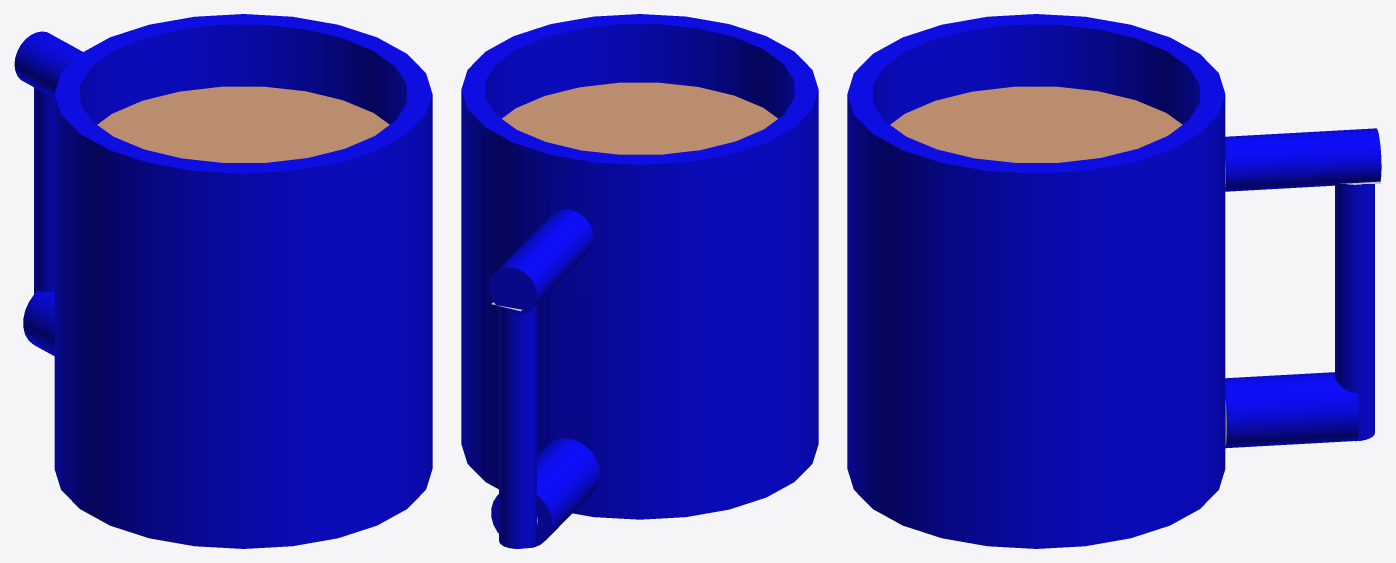
The picture shows the model from 3 angles, left to right: view 1: azimuth 30°, elevation 25°; view 2: azimuth 150°, elevation 25°; view 3: azimuth 270°, elevation 25°; orthographic projection. The views are drawn at different scales.
Parts seen in each view (by area): view 1: mesh1_mesh1-geometry, mesh1_mesh1-geometry_2, mesh4_mesh4-geometry_1, mesh2_mesh2-geometry_1; view 2: mesh1_mesh1-geometry, mesh1_mesh1-geometry_2, mesh4_mesh4-geometry_1, mesh2_mesh2-geometry_1; view 3: mesh1_mesh1-geometry, mesh1_mesh1-geometry_2, mesh4_mesh4-geometry_1, mesh2_mesh2-geometry_1.
Part boxes in pixels (left/top/right/bottom): mesh1_mesh1-geometry: left=23, top=14, right=432, bottom=548; mesh1_mesh1-geometry_2: left=97, top=86, right=389, bottom=162; mesh4_mesh4-geometry_1: left=34, top=87, right=54, bottom=293; mesh2_mesh2-geometry_1: left=14, top=31, right=82, bottom=98; mesh1_mesh1-geometry: left=461, top=14, right=818, bottom=548; mesh1_mesh1-geometry_2: left=502, top=82, right=777, bottom=154; mesh4_mesh4-geometry_1: left=499, top=304, right=536, bottom=548; mesh2_mesh2-geometry_1: left=489, top=209, right=593, bottom=315; mesh1_mesh1-geometry: left=847, top=14, right=1358, bottom=548; mesh1_mesh1-geometry_2: left=890, top=86, right=1182, bottom=162; mesh4_mesh4-geometry_1: left=1335, top=184, right=1374, bottom=441; mesh2_mesh2-geometry_1: left=1225, top=128, right=1381, bottom=191.
Size of the model in its own units: 0.4881 by 0.5348 by 0.6898.
